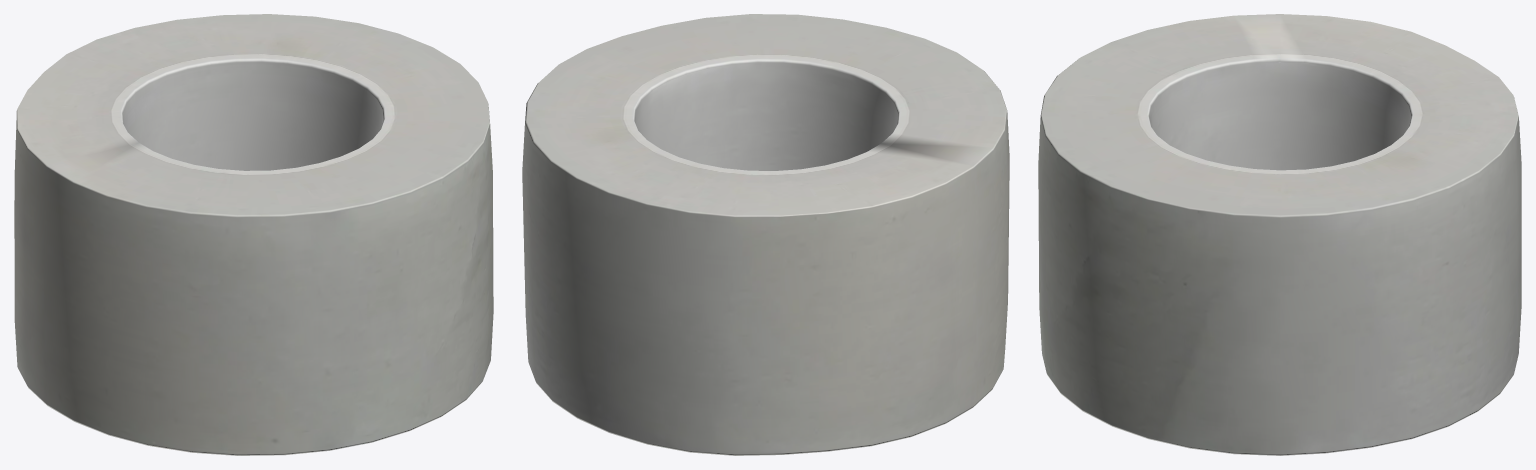
File: medical_tape.glb
3 views of the same model, side by side, from view 1: azimuth 30°, elevation 25°; view 2: azimuth 150°, elevation 25°; view 3: azimuth 270°, elevation 25° (orthographic).
Parts seen in each view (by area): view 1: medical_tape; view 2: medical_tape; view 3: medical_tape.
Part boxes in pixels (x1,y1,x2,y2): medical_tape: [14, 14, 493, 455]; medical_tape: [522, 14, 1009, 455]; medical_tape: [1038, 14, 1521, 455].
Size of the model in its own units: 0.0453 by 0.025 by 0.0451.
1 material, 1 textured.
